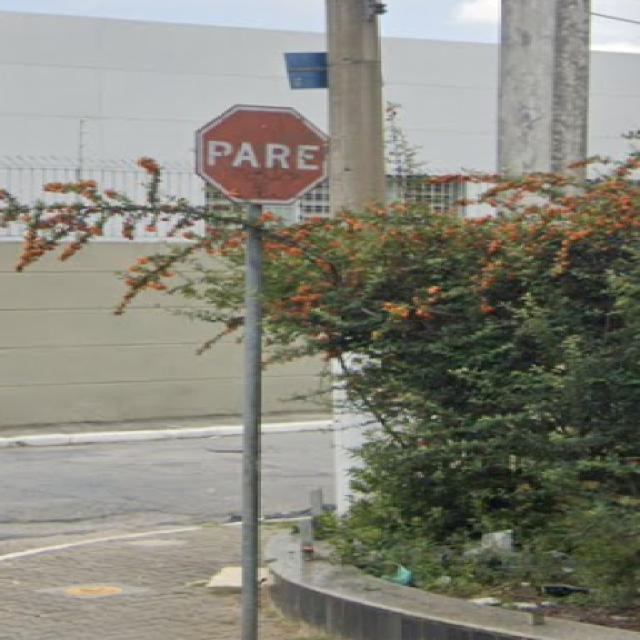stop: (166, 92, 364, 216)
